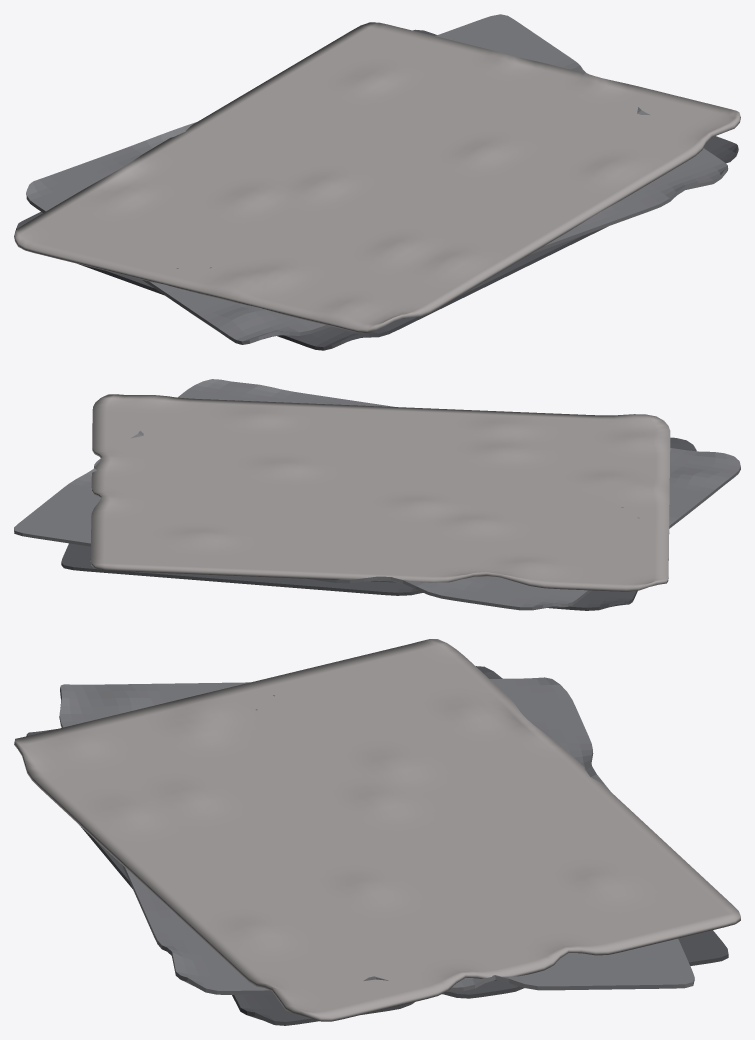
The model's file is Assets.fbx_Letter.fbx.
The picture shows the model from 3 angles, top to bottom: view 1: azimuth 30°, elevation 25°; view 2: azimuth 150°, elevation 25°; view 3: azimuth 270°, elevation 25°; orthographic projection. The views are drawn at different scales.
Parts seen in each view (by area): view 1: Plane.002, Plane.001, Plane.015; view 2: Plane.002, Plane.001, Plane.015; view 3: Plane.002, Plane.001, Plane.015.
Part boxes in pixels (x1,y1,x2,y2): Plane.002: (14,22,740,332); Plane.001: (26,14,728,344); Plane.015: (16,29,738,350); Plane.002: (90,394,670,591); Plane.001: (14,379,740,610); Plane.015: (61,437,696,610); Plane.002: (14,639,740,1021); Plane.001: (59,677,694,994); Plane.015: (26,666,728,1025).
Bounding box in the file's own units: 33.56 × 1.13 × 27.38.
